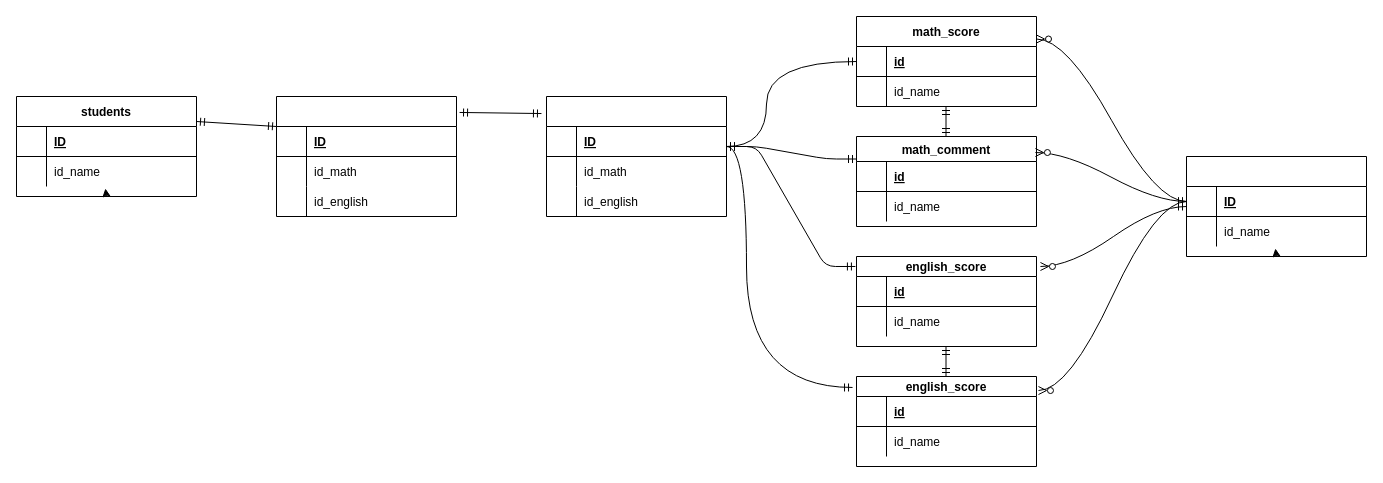
This 1383x483 diagram has some shape labels left out. The shapes that lost their labels are listed below. From the top down, each one's box as (x1, y1, x2, y2) in pixels, then its label:
(276, 96, 456, 216): appication_exams
(546, 96, 726, 216): exams_result
(1186, 156, 1366, 256): teachers
